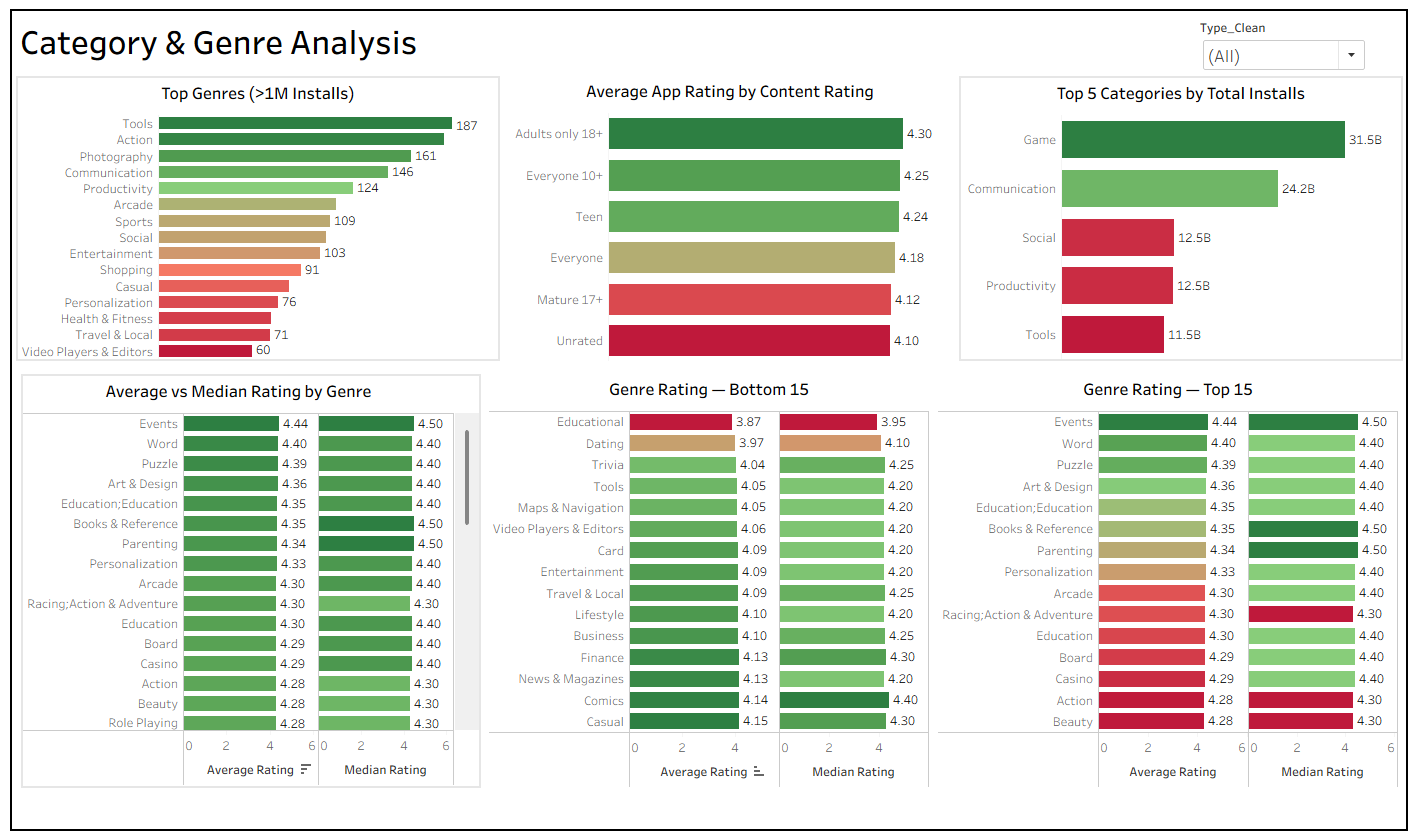

What the dashboard file says about the page in this screenshot:
{"tool":"tableau","page":{"name":"Dashboard 3","canvas":[1400,800],"ordinal":2},"visuals":[{"type":"text","box":[2,2,1395,61]},{"type":"filter","title":"Genre Rating - Bottom 15A5","param":"[federated.019ev5d0986adr167u6dm0snf7zb].[none:Calculation_0197685449314311:nk]","box":[1190,10,168,54]},{"type":"worksheet","title":"Top Genres (>1M Installs)M5","mark":"Automatic","rows":["Calculation_0197685440765954"],"cols":["Calculation_0197685439774720"],"box":[2,63,491.7,293]},{"type":"worksheet","title":"Avg Rating by Content RatingM4","mark":"Automatic","rows":["Content Rating"],"cols":["Rating"],"box":[493.7,63,451.7,293]},{"type":"worksheet","title":"top5 most installed catM10","mark":"Bar","rows":["Calculation_0197685440053249"],"cols":["Installs"],"box":[945.3,63,451.7,293]},{"type":"worksheet","title":"Genre Rating A5","mark":"Automatic","rows":["Calculation_0197685440765954"],"cols":["Rating","Rating"],"box":[7,361,468.3,422]},{"type":"worksheet","title":"Genre Rating - Bottom 15A5","mark":"Automatic","rows":["Calculation_0197685440765954"],"cols":["Rating","Rating"],"box":[475.3,361,448.3,422]},{"type":"worksheet","title":"Genre Rating - Top 15A5","mark":"Automatic","rows":["Calculation_0197685440765954"],"cols":["Rating","Rating"],"box":[923.7,361,468.3,422]}]}

Visuals, with their boxes in screenshot pixels (x1, y1, x2, y2), scaled from the page's 1400x800 canvas onto the 1411x831 screenshot:
text: detection(2, 2, 1408, 65)
"Genre Rating - Bottom 15A5" filter: detection(1199, 10, 1369, 66)
"Top Genres (>1M Installs)M5" worksheet: detection(2, 65, 498, 370)
"Avg Rating by Content RatingM4" worksheet: detection(498, 65, 953, 370)
"top5 most installed catM10" worksheet (Bar marks): detection(953, 65, 1408, 370)
"Genre Rating A5" worksheet: detection(7, 375, 479, 813)
"Genre Rating - Bottom 15A5" worksheet: detection(479, 375, 931, 813)
"Genre Rating - Top 15A5" worksheet: detection(931, 375, 1403, 813)
